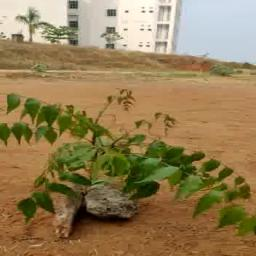Azadiractha Indica: (8, 84, 246, 226), (122, 176, 160, 200), (198, 188, 226, 217), (107, 146, 131, 174), (111, 88, 138, 112), (50, 150, 98, 163), (151, 110, 182, 130), (181, 172, 203, 200), (48, 179, 80, 196), (157, 164, 184, 184), (34, 192, 58, 214), (60, 172, 92, 187), (24, 97, 42, 122), (128, 117, 150, 136), (236, 216, 256, 236), (224, 204, 242, 226), (43, 106, 62, 126), (66, 107, 79, 136), (59, 145, 96, 155), (78, 116, 96, 136), (21, 198, 38, 219), (147, 139, 163, 160), (167, 146, 188, 162), (146, 161, 162, 181), (8, 92, 22, 114), (0, 125, 14, 146), (32, 168, 46, 189), (237, 178, 251, 199), (11, 125, 27, 143), (218, 166, 238, 180), (132, 155, 144, 178), (204, 157, 220, 172), (36, 128, 52, 141), (130, 137, 152, 146), (190, 153, 206, 161)
